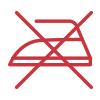do_not_iron: (8, 10, 94, 90)
